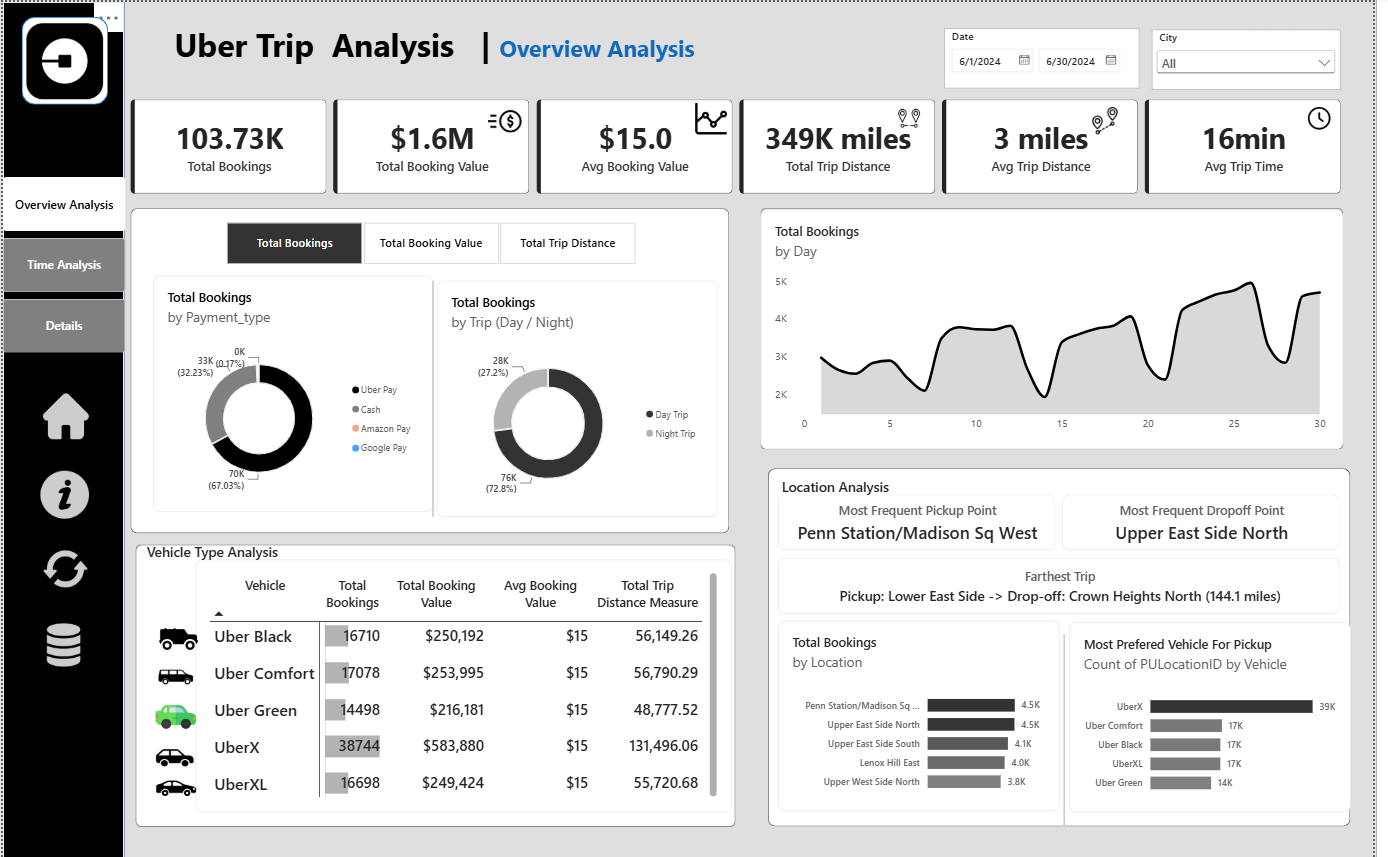

The page's visual inventory and layout, read from the dashboard file:
{"tool":"powerbi","page":{"name":"Overview Analysis","canvas":[1600,1000],"ordinal":0},"visuals":[{"type":"shape","box":[0,0,141.6,1000.3],"z":0},{"type":"textbox","box":[200.1,24.8,734.5,59.9],"z":1000},{"type":"cardVisual","fields":{"Data":["Trip Details.Total Bookings","Trip Details.Total Booking Value","Trip Details.Avg Booking Amount","Trip Details.Total Trip Distance","Trip Details.Avg Trip Distance","Trip Details.Avg Trip Time"]},"box":[148.9,113.9,1415,111],"z":2000},{"type":"image","box":[1035.3,122.7,46.5,26.2],"z":3000},{"type":"image","box":[566.6,119.7,39.2,39.2],"z":4000},{"type":"image","box":[1266.1,122.7,45.1,32],"z":5000},{"type":"image","box":[1517.2,122.7,40.7,26.2],"z":6000},{"type":"image","box":[806.1,102.2,42.3,68.6],"z":7000},{"type":"shape","box":[148.9,240.9,699.5,379.7],"z":8000},{"type":"slicer","fields":{"Values":["Dynamic Measure.Dynamic Measure"]},"box":[240.9,255.6,516.9,52.6],"z":9000},{"type":"donutChart","fields":{"Y":["Trip Details.Total Bookings"],"Category":["Trip Details.Payment_type"]},"box":[175.2,319.8,327.1,276],"z":10000},{"type":"donutChart","fields":{"Y":["Trip Details.Total Bookings"],"Category":["Trip Details.Trip Type (Day / Night)"]},"box":[506.7,325.6,328.6,276],"z":11000},{"type":"shape","box":[154.8,633.8,700.9,330],"z":12000},{"type":"pivotTable","fields":{"Rows":["Trip Details.Vehicle"],"Values":["Trip Details.Total Bookings","Trip Details.Total Booking Value","Trip Details.Avg Booking Value","Trip Details.Total Trip Distance Measure"]},"box":[224.9,651.3,626.5,295],"z":13000},{"type":"image","box":[167.9,721.4,74.3,45.7],"z":14000},{"type":"image","box":[178.2,798.8,47.1,72.9],"z":15000},{"type":"image","box":[165,860.1,71.4,45.7],"z":16000},{"type":"image","box":[175.2,766.7,52.9,44.3],"z":17000},{"type":"image","box":[167.9,892.2,68.6,52.9],"z":18000},{"type":"cardVisual","fields":{"Data":["Trip Details.Title for Grid"]},"box":[151.9,620.6,188.6,41.4],"z":19000},{"type":"shape","box":[884.9,240.9,680.5,281.8],"z":20000},{"type":"areaChart","fields":{"Category":["Calender Table.Date.Variation.Date Hierarchy.Day"],"Y":["Trip Details.Total Bookings"]},"box":[884.9,242.4,680.5,280.4],"z":21000},{"type":"shape","box":[893.7,544.7,680.2,418.6],"z":22000},{"type":"cardVisual","fields":{"Data":["Trip Details.Most Frequent Pickup Point","Trip Details.Most Frequent Dropoff Point"]},"box":[905.4,575.4,657.1,65.7],"z":23000},{"type":"cardVisual","fields":{"Data":["Trip Details.Farthest Trip"]},"box":[905.4,649.8,657.1,65.7],"z":24000},{"type":"barChart","fields":{"Category":["Location Table.Location"],"Y":["Trip Details.Total Bookings"]},"box":[905.4,722.8,328.5,222.4],"z":25000},{"type":"barChart","title":"Most Prefered Vehicle For Pickup","fields":{"Category":["Trip Details.Vehicle"],"Y":["CountNonNull(Trip Details.PULocationID)"]},"box":[1245.6,724.3,328.5,222.4],"z":26000},{"type":"shape","box":[476.1,325.6,52.6,276],"z":27000},{"type":"shape","box":[1213.5,738.9,52.6,224.9],"z":28000},{"type":"cardVisual","fields":{"Data":["Trip Details.Title for Location"]},"box":[893.7,544.7,188.6,41.4],"z":29000},{"type":"slicer","fields":{"Values":["Calender Table.Date"]},"box":[1099.6,30.7,227.8,70.1],"z":30000},{"type":"slicer","fields":{"Values":["Location Table.City"]},"box":[1342,32.1,220.5,70.1],"z":31000},{"type":"shape","box":[21.9,17.5,100.8,102.2],"z":32000},{"type":"image","box":[23.4,24.8,97.8,89.1],"z":33000},{"type":"pageNavigator","box":[0,204.4,143.1,205.9],"z":34000},{"type":"image","box":[32.1,636.7,81.4,50.9],"z":36000},{"type":"image","box":[36.5,547.6,71.4,56.3],"z":37000},{"type":"image","box":[46.7,455.6,53.8,56.7],"z":38000},{"type":"image","box":[45.3,715.5,50.9,71.2],"z":39000}]}

Visuals, with their boxes on the page's 1600x1000 design canvas (x1, y1, x2, y2). These are canvas units, not pixel positions in the 1388x857 screenshot, which may show the page scaled, cropped or inside an application window:
shape: Rect(0, 0, 142, 1000)
textbox: Rect(200, 25, 935, 85)
cardVisual - Trip Details.Total Bookings x Trip Details.Total Booking Value: Rect(149, 114, 1564, 225)
image: Rect(1035, 123, 1082, 149)
image: Rect(567, 120, 606, 159)
image: Rect(1266, 123, 1311, 155)
image: Rect(1517, 123, 1558, 149)
image: Rect(806, 102, 848, 171)
shape: Rect(149, 241, 848, 621)
slicer - Dynamic Measure.Dynamic Measure: Rect(241, 256, 758, 308)
donutChart - Trip Details.Total Bookings x Trip Details.Payment_type: Rect(175, 320, 502, 596)
donutChart - Trip Details.Total Bookings x Trip Details.Trip Type (Day / Night): Rect(507, 326, 835, 602)
shape: Rect(155, 634, 856, 964)
pivotTable - Trip Details.Vehicle x Trip Details.Total Bookings: Rect(225, 651, 851, 946)
image: Rect(168, 721, 242, 767)
image: Rect(178, 799, 225, 872)
image: Rect(165, 860, 236, 906)
image: Rect(175, 767, 228, 811)
image: Rect(168, 892, 236, 945)
cardVisual - Trip Details.Title for Grid: Rect(152, 621, 340, 662)
shape: Rect(885, 241, 1565, 523)
areaChart - Calender Table.Date.Variation.Date Hierarchy.Day x Trip Details.Total Bookings: Rect(885, 242, 1565, 523)
shape: Rect(894, 545, 1574, 963)
cardVisual - Trip Details.Most Frequent Pickup Point x Trip Details.Most Frequent Dropoff Point: Rect(905, 575, 1562, 641)
cardVisual - Trip Details.Farthest Trip: Rect(905, 650, 1562, 716)
barChart - Location Table.Location x Trip Details.Total Bookings: Rect(905, 723, 1234, 945)
"Most Prefered Vehicle For Pickup" barChart: Rect(1246, 724, 1574, 947)
shape: Rect(476, 326, 529, 602)
shape: Rect(1214, 739, 1266, 964)
cardVisual - Trip Details.Title for Location: Rect(894, 545, 1082, 586)
slicer - Calender Table.Date: Rect(1100, 31, 1327, 101)
slicer - Location Table.City: Rect(1342, 32, 1562, 102)
shape: Rect(22, 18, 123, 120)
image: Rect(23, 25, 121, 114)
pageNavigator: Rect(0, 204, 143, 410)
image: Rect(32, 637, 114, 688)
image: Rect(36, 548, 108, 604)
image: Rect(47, 456, 100, 512)
image: Rect(45, 716, 96, 787)
